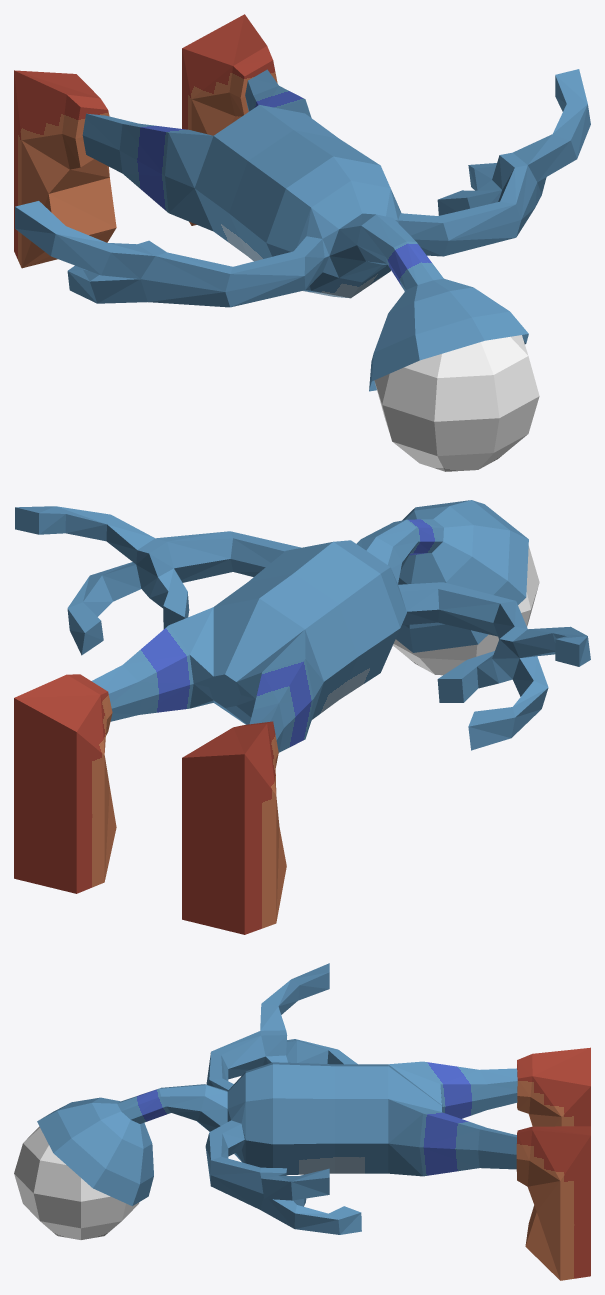
Rendered from ned.obj.
3 renders of one model, top to bottom at view 1: azimuth 30°, elevation 25°; view 2: azimuth 150°, elevation 25°; view 3: azimuth 270°, elevation 25°, orthographic. The views are drawn at different scales.
Visible parts, largest first — view 1: Sphere_Sphere.001; view 2: Sphere_Sphere.001; view 3: Sphere_Sphere.001.
Boxes of the visible parts, x1=… form: Sphere_Sphere.001: x1=14, y1=14, x2=590, y2=471; Sphere_Sphere.001: x1=14, y1=500, x2=590, y2=934; Sphere_Sphere.001: x1=14, y1=963, x2=590, y2=1280.
Size of the model in its own units: 9.83 by 3.63 by 11.17.
1 material, 1 textured.
